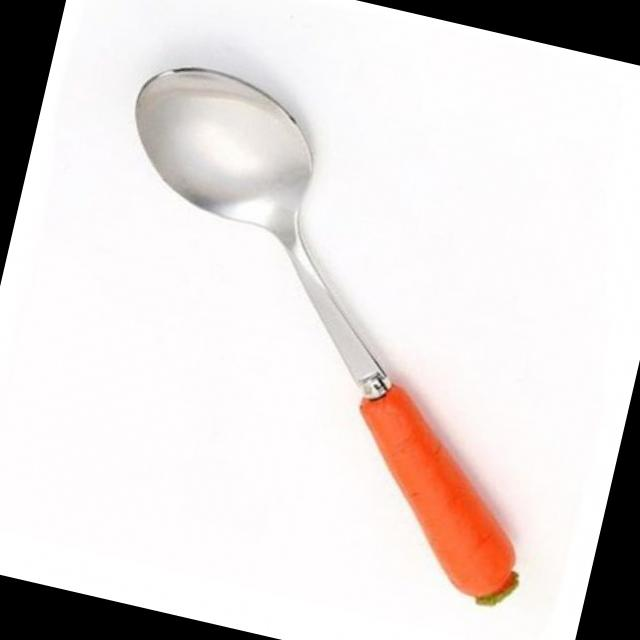spoon: (39, 32, 624, 624)
